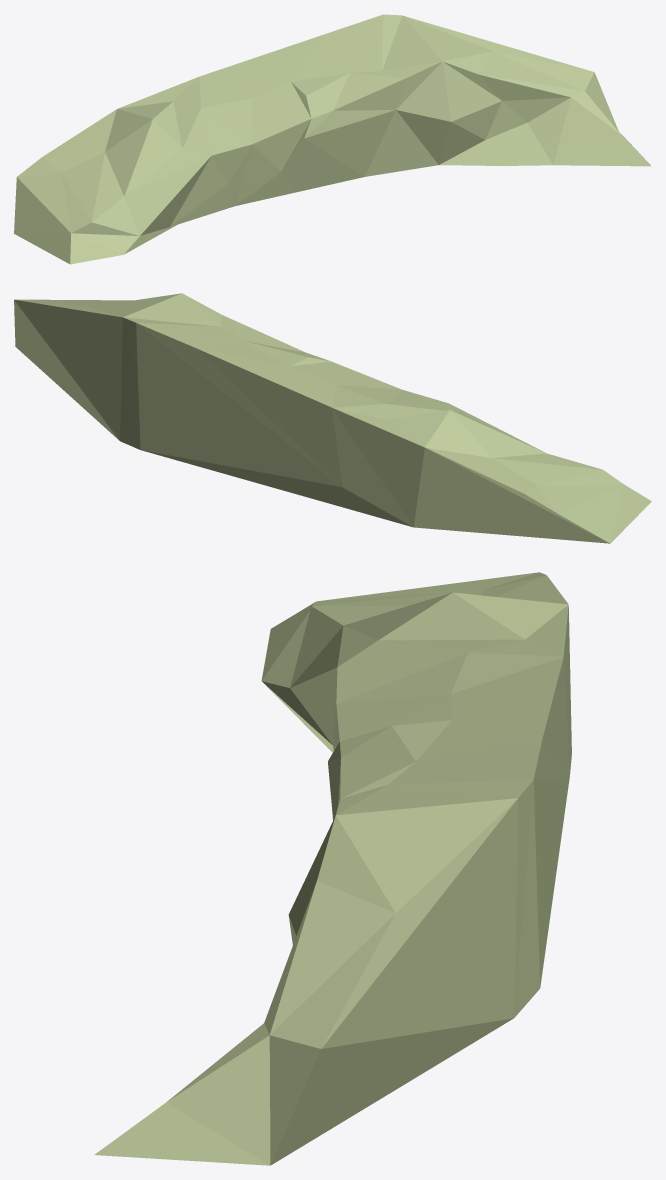
The model's file is hill_15.gltf.
The picture shows the model from 3 angles, top to bottom: view 1: azimuth 30°, elevation 25°; view 2: azimuth 150°, elevation 25°; view 3: azimuth 270°, elevation 25°; orthographic projection. The views are drawn at different scales.
Parts seen in each view (by area): view 1: hill; view 2: hill; view 3: hill.
Boxes of the visible parts, x1,y1,x2,y2 form: hill: (14,14,651,264); hill: (14,293,651,543); hill: (94,572,571,1165).
Size of the model in its own units: 6.51 by 1.24 by 2.41.
